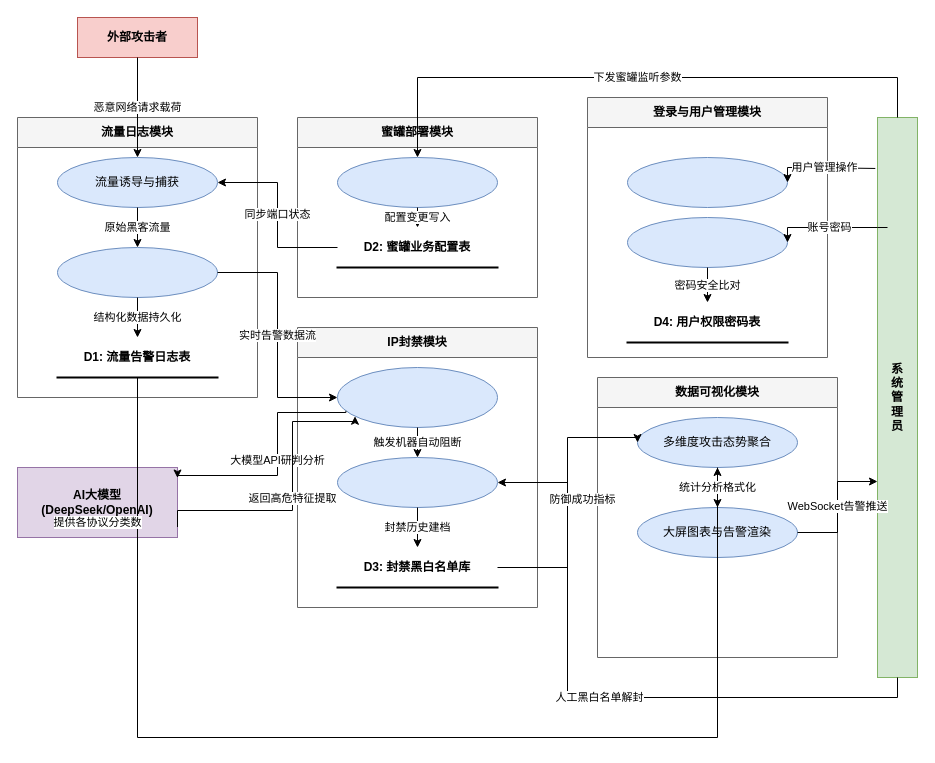
Some shapes in this 935 by 763 pixel diagram are drawn without their labels. The centre of each missing label's shape, as x and y in pixels:
"威胁特征研判 (规则引擎+AI分析)" goes at [417,397].
"底层防火墙阻断调度" goes at [417,482].
"日志解析提取" goes at [137,272].
"服务配置与部署管控" goes at [417,182].
"用户管理与权限分配" goes at [707,182].
"身份认证与JWT签发" goes at [707,242].
